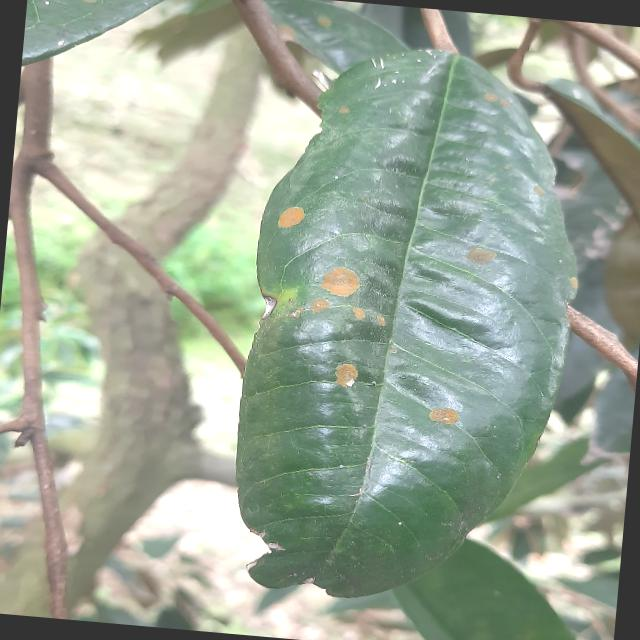Algal Leaf Spot: (230, 26, 602, 624)
